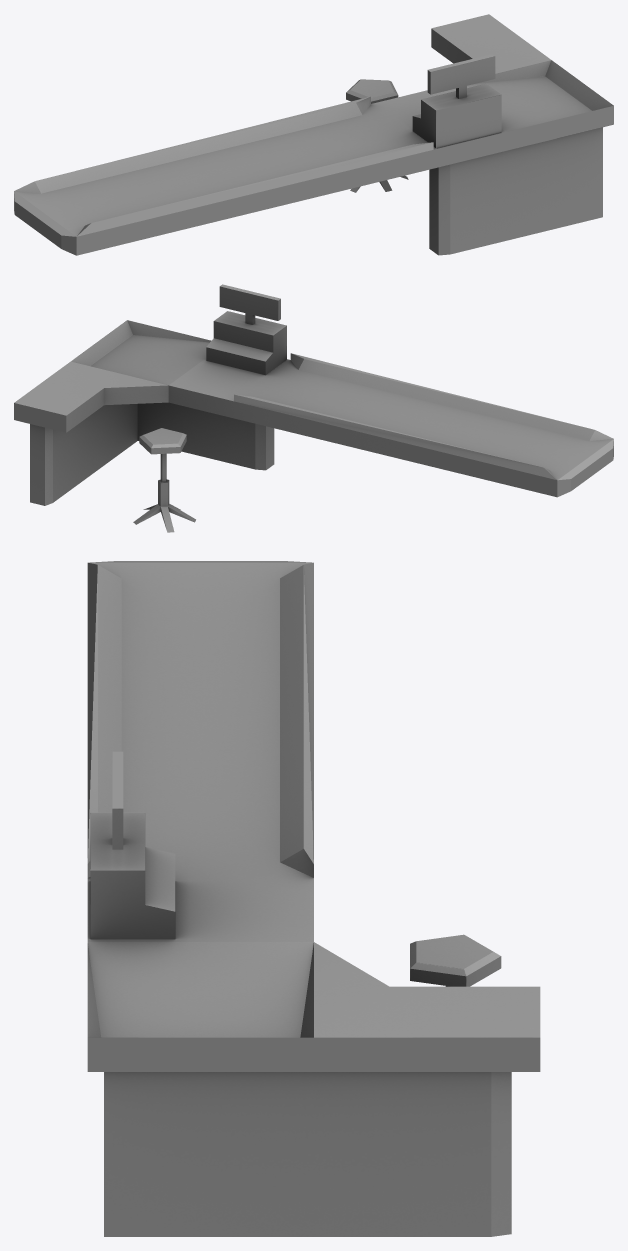
Rendered from counter.fbx.
3 views of the same model, one above another, from view 1: azimuth 30°, elevation 25°; view 2: azimuth 150°, elevation 25°; view 3: azimuth 270°, elevation 25° (orthographic). The views are drawn at different scales.
Parts seen in each view (by area): view 1: Plane; view 2: Plane; view 3: Plane.
Part boxes in pixels (x1,y1,x2,y2): Plane: [14, 14, 613, 255]; Plane: [14, 284, 613, 532]; Plane: [87, 561, 540, 1236].
Size of the model in its own units: 604 by 196 by 240.
1 material, 1 textured.
